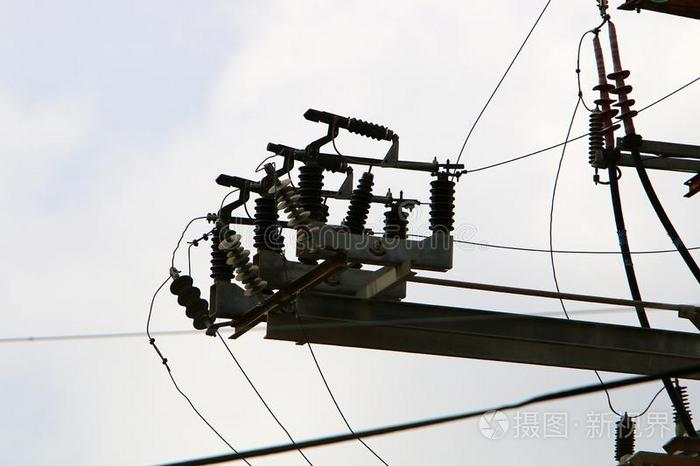insulator: (269, 177, 321, 240), (220, 236, 269, 299), (168, 275, 210, 328), (609, 68, 641, 120)
